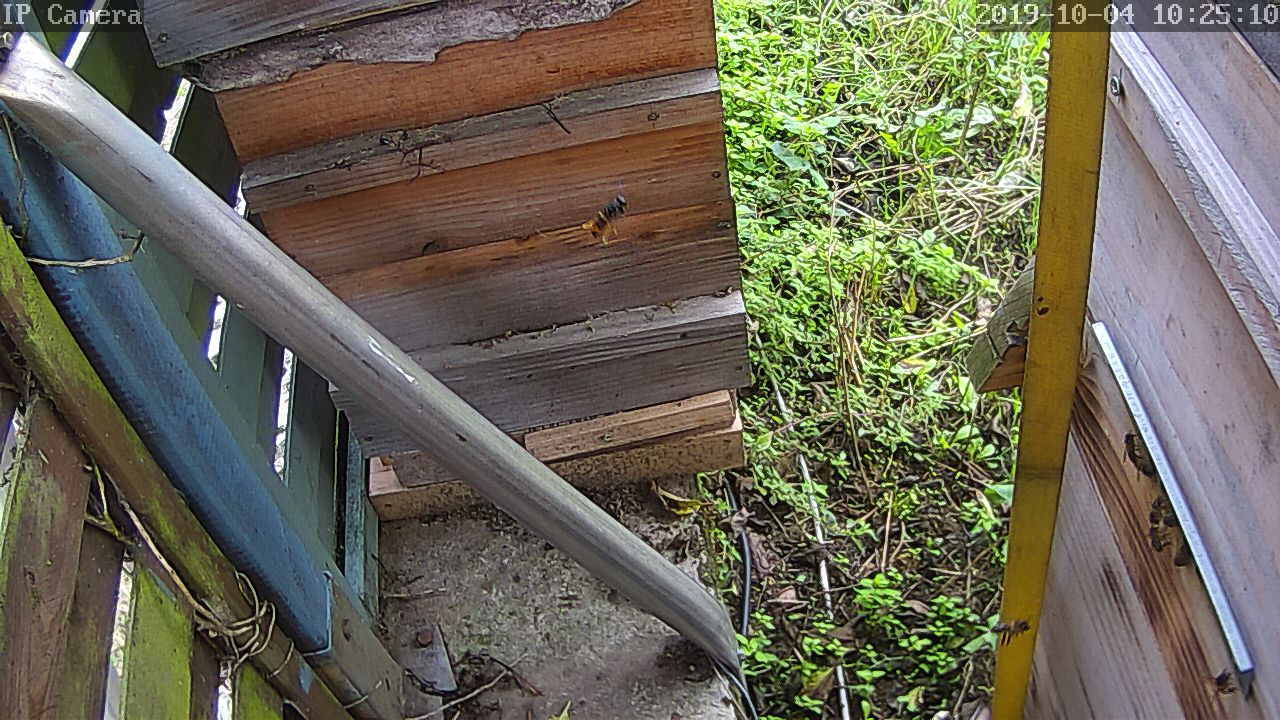bee: (1201, 663, 1255, 709), (1137, 494, 1184, 537), (1121, 435, 1160, 485), (1153, 526, 1198, 568), (990, 612, 1036, 647)
hornet: (583, 193, 631, 246)
